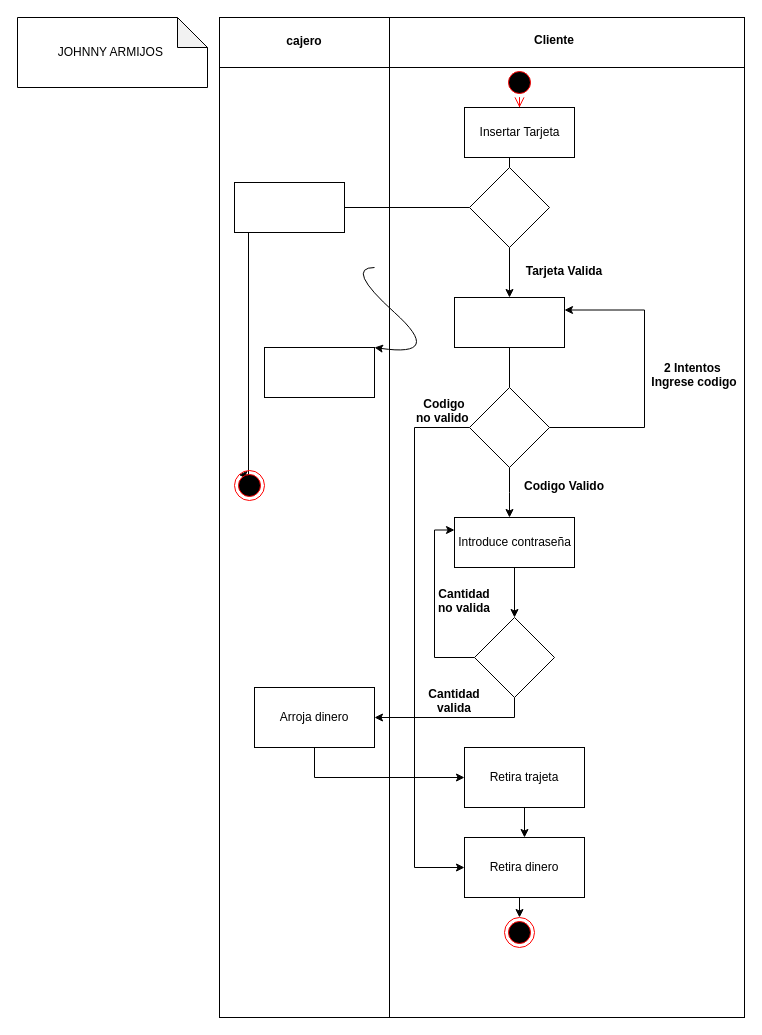
The diagram is 762 pixels wide and 1035 high, and some of its shapes have lost their labels. Here are the shapes that lost their labels. From the top down, the centre of each, then its label:
At (289,207): "Explusar tarjeta".
At (509,322): "Ingrese Codigo".
At (319,372): "Expulsar Tarjeta".
